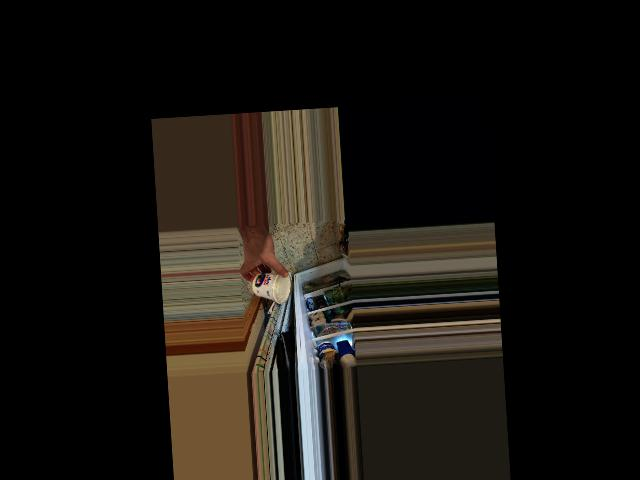cotage: (250, 267, 290, 303)
